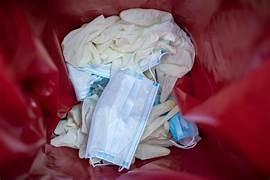Mask: (86, 69, 158, 168), (67, 64, 109, 100), (169, 113, 199, 147)
